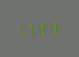nine: (48, 19, 57, 35)
one: (18, 21, 27, 38)
seven: (28, 20, 37, 37)
zero: (38, 20, 47, 36)
